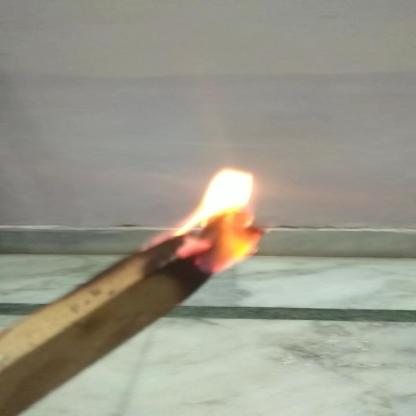fire: (160, 162, 271, 278)
